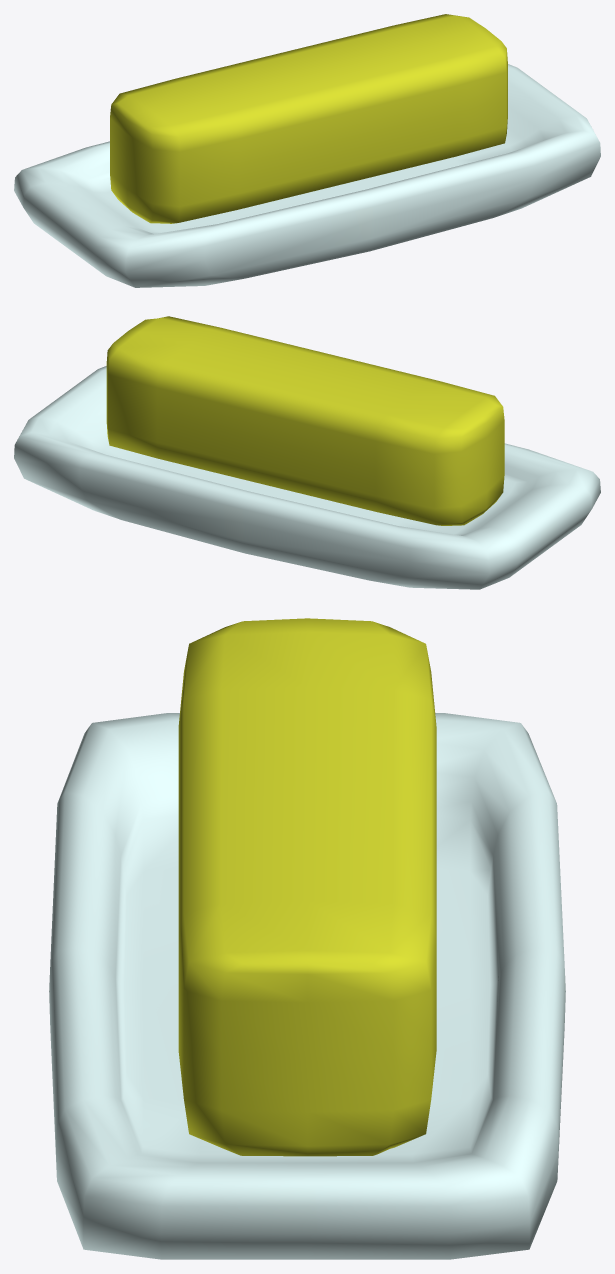
File: Butter.fbx
3 views of the same model, one above another, from view 1: azimuth 30°, elevation 25°; view 2: azimuth 150°, elevation 25°; view 3: azimuth 270°, elevation 25° (orthographic). The views are drawn at different scales.
Visible parts, largest first — view 1: ButterFood; view 2: ButterFood; view 3: ButterFood.
Part boxes in pixels (<box>): ButterFood: <box>14,14,600,287</box>; ButterFood: <box>14,316,600,589</box>; ButterFood: <box>49,618,565,1259</box>.
Bounding box in the file's own units: 12.49 × 27.69 × 7.57.
Materials: 2 (2 with a texture image).
